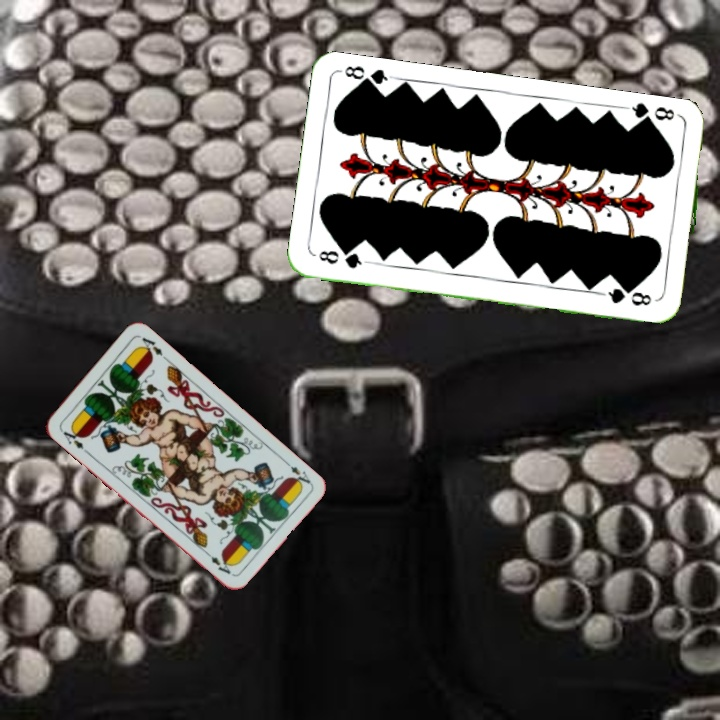EA: (56, 423, 91, 456), (280, 456, 313, 490)
G8: (624, 99, 683, 129), (314, 246, 371, 271)
